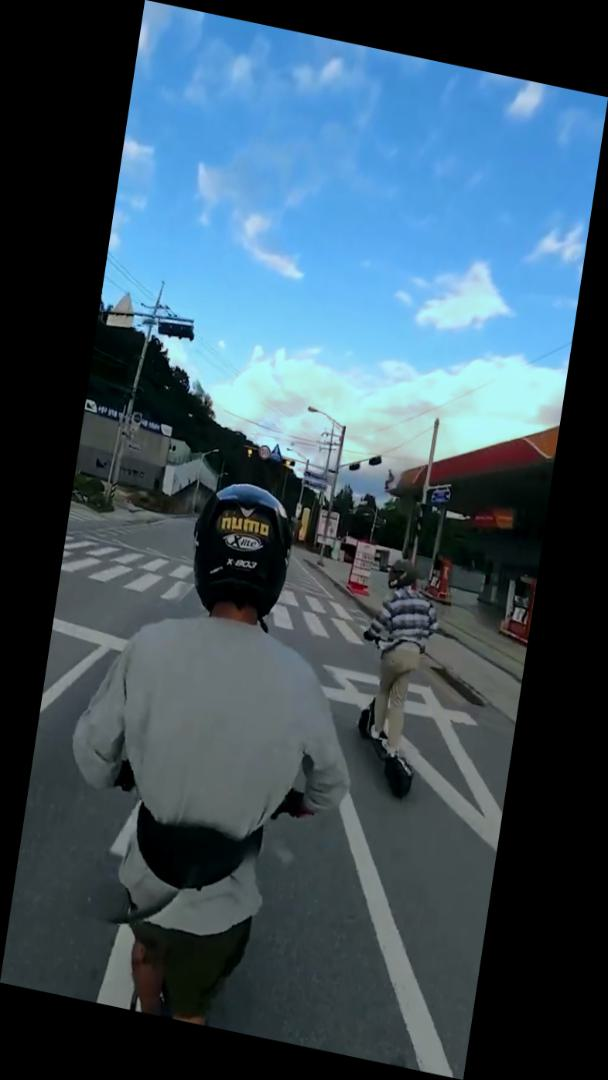helmet: (33, 452, 392, 1048), (341, 548, 448, 801)
